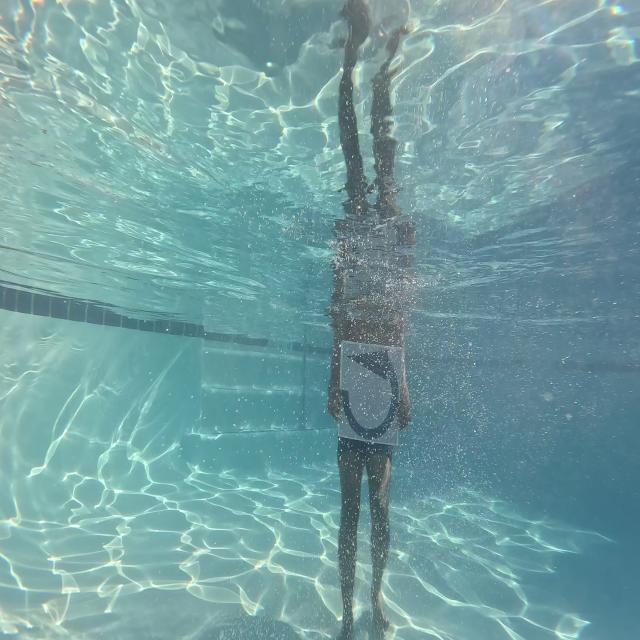blue_side: (339, 329, 405, 441)
